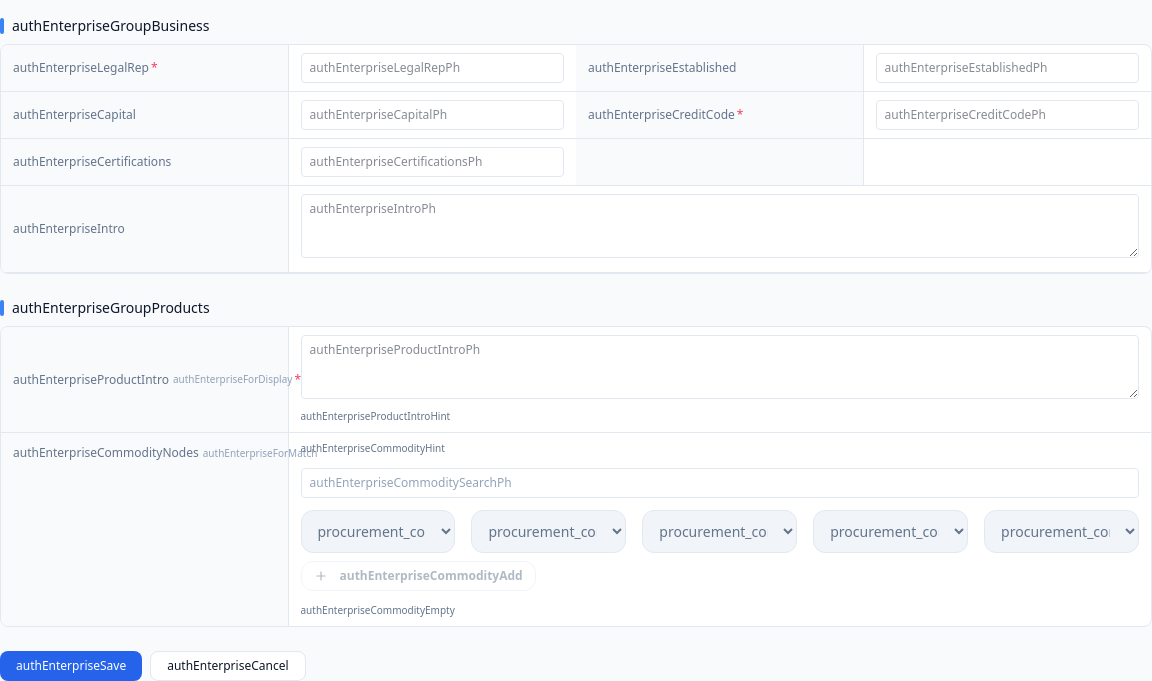
Test: EnterpriseEditForm › 必填缺失时阻断提交并红字点名
The width and height of the screenshot is (1152, 681).
(page scrolled)
Click the button "authEnterpriseSave" at (71, 666), box [0,651,142,680]
(page scrolled)
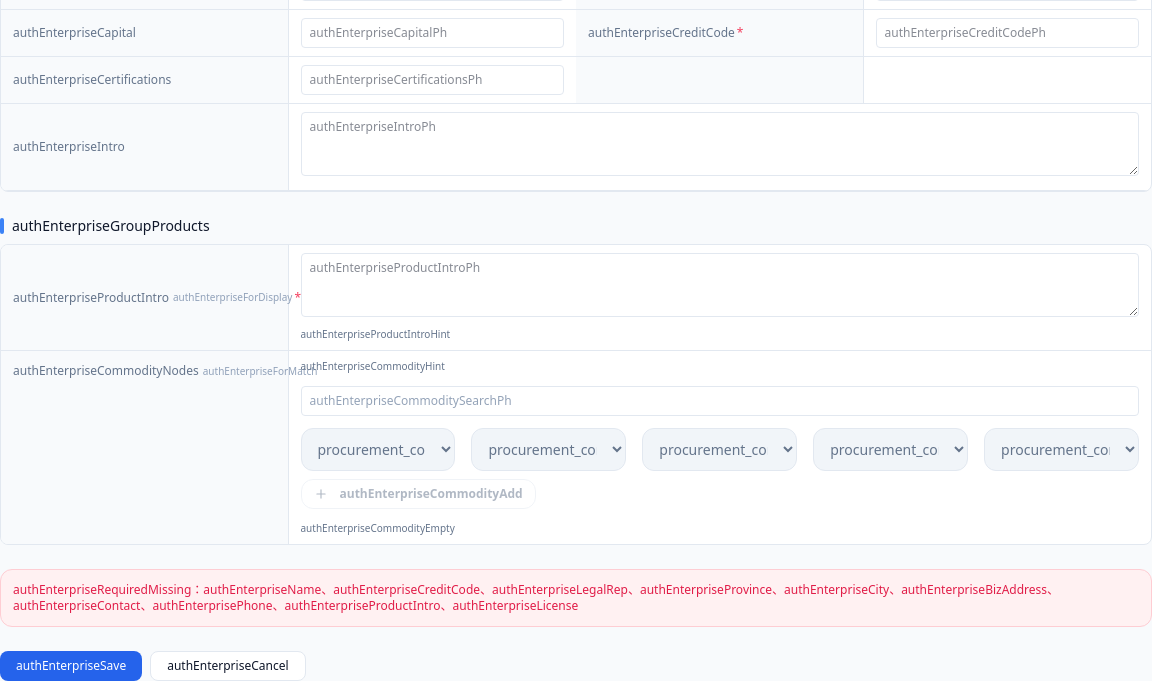
Now the text "authEnterpriseRequiredMissing" is shown, box [13,581,1059,614]
